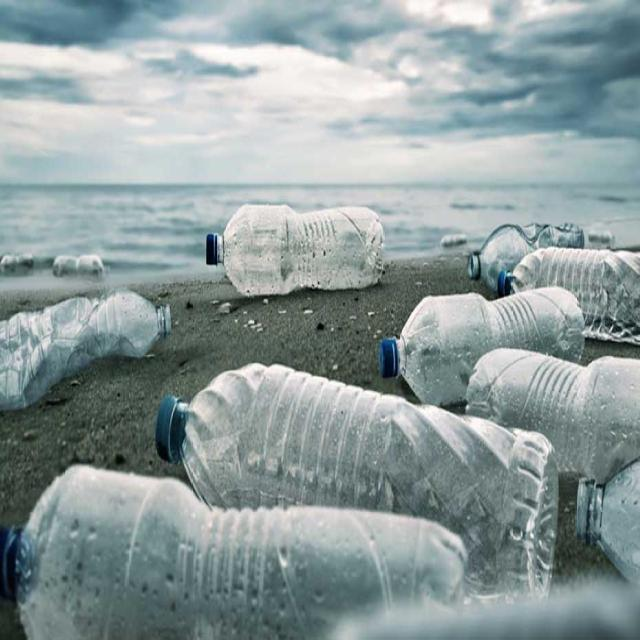Plastic: (159, 364, 557, 596), (14, 465, 469, 640), (467, 349, 640, 488), (399, 287, 585, 412), (0, 292, 169, 414), (222, 205, 385, 298), (511, 248, 640, 346), (467, 222, 584, 300), (588, 463, 640, 598)
